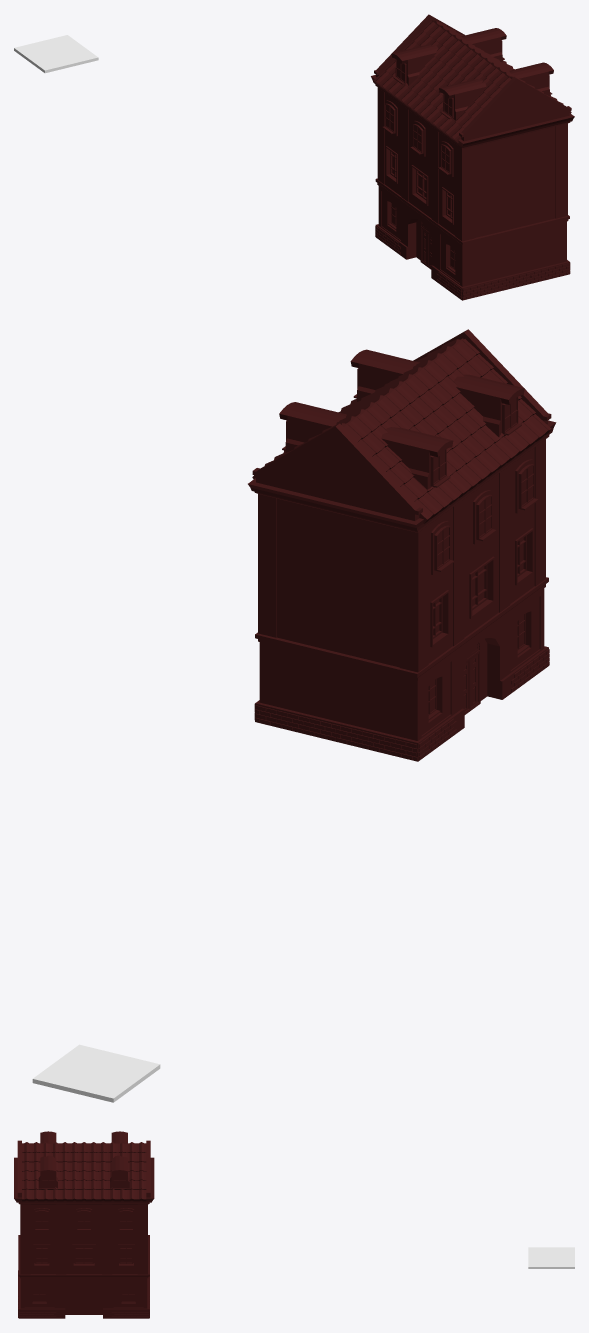
Rendered from NewTest.fbx.
The picture shows the model from 3 angles, top to bottom: view 1: azimuth 30°, elevation 25°; view 2: azimuth 150°, elevation 25°; view 3: azimuth 270°, elevation 25°; orthographic projection. The views are drawn at different scales.
Visible parts, largest first — view 1: Building1_Small, Height Road straight(Clone); view 2: Building1_Small, Height Road straight(Clone); view 3: Building1_Small, Height Road straight(Clone).
Boxes of the visible parts, box(x1,y1,x2,y2) form: Building1_Small: box(371, 14, 574, 300); Height Road straight(Clone): box(14, 35, 98, 73); Building1_Small: box(248, 329, 556, 761); Height Road straight(Clone): box(32, 1044, 160, 1102); Building1_Small: box(14, 1131, 154, 1318); Height Road straight(Clone): box(528, 1247, 574, 1268).
Size of what is drawn, in the model's own units: 3.6 by 3.73 by 12.
